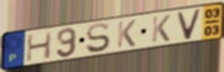9: (55, 27, 78, 59)
H: (25, 30, 54, 63)
K: (116, 18, 138, 49), (151, 13, 173, 44)
S: (85, 22, 112, 55)
V: (176, 7, 203, 41)
